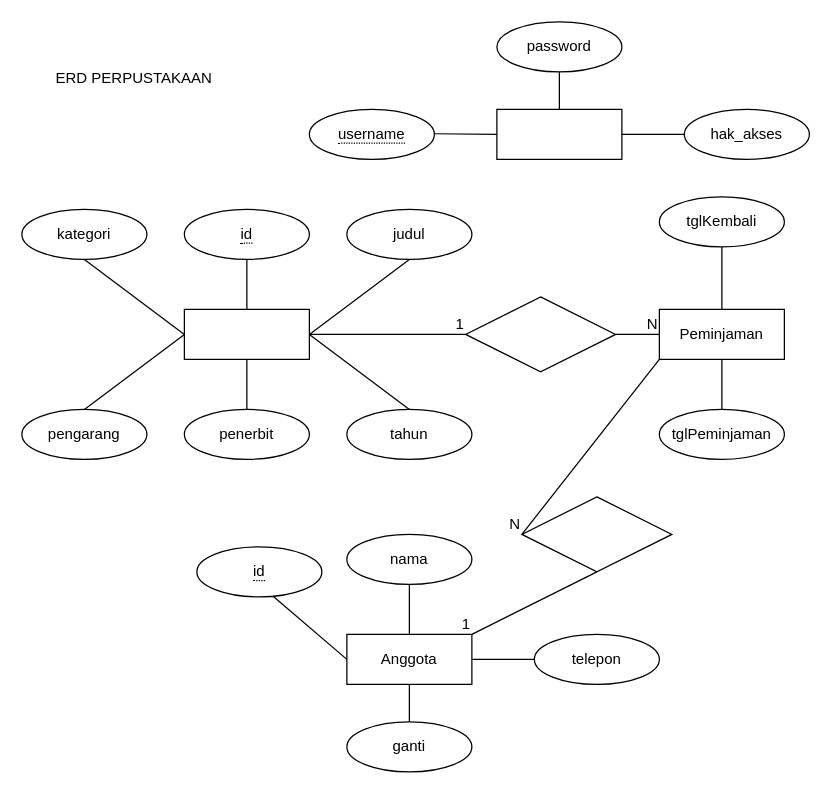
Image size: 831x794. Some labels were removed from this diagram. Each missing label, with the centre of its shape:
Buku: the point at 246,333
dipinjam: the point at 540,334
melakukan: the point at 596,534
Petugas: the point at 559,133
